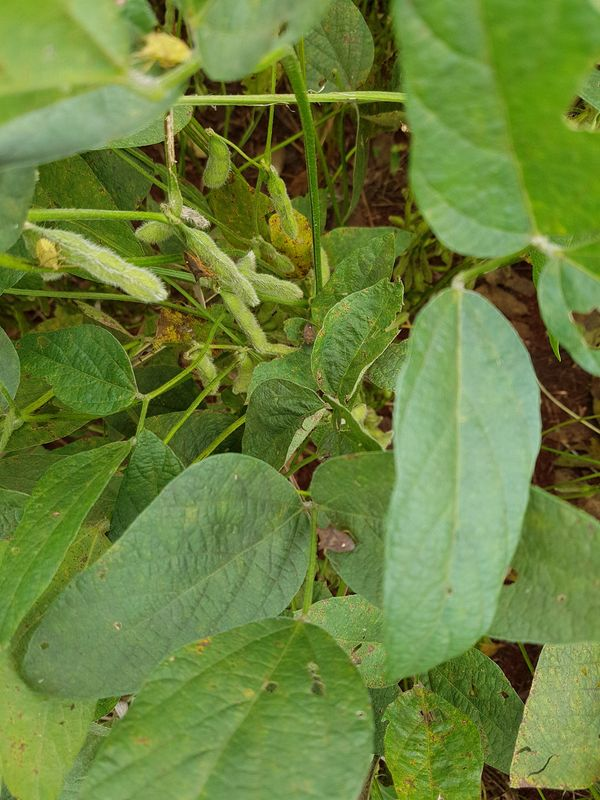Euschistus_heros_adulto: (307, 517, 369, 569), (175, 244, 225, 293), (294, 317, 322, 351)
Euschistus_heros_ninfa: (25, 231, 73, 278)
